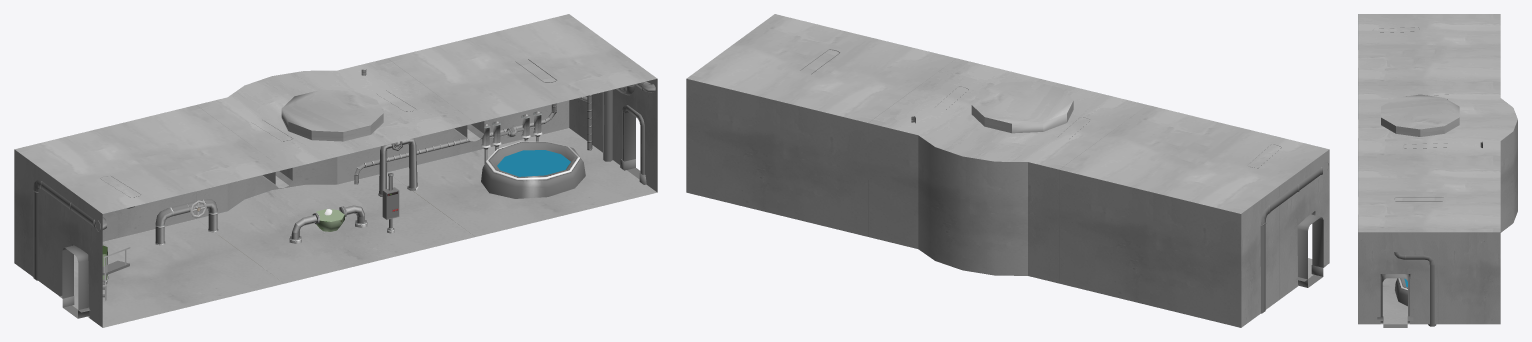
Rendered from MHS_Water_L1_R3_optimized.fbx.
3 views of the same model, side by side, from view 1: azimuth 30°, elevation 25°; view 2: azimuth 150°, elevation 25°; view 3: azimuth 270°, elevation 25° (orthographic). The views are drawn at different scales.
Parts seen in each view (by area): view 1: lightmap0, MHS_Water_L1_door, lightmap-1; view 2: lightmap0, MHS_Water_L1_door; view 3: lightmap0, MHS_Water_L1_door.
Boxes of the visible parts, left/top/right/bottom form: lightmap0: left=14, top=14, right=657, bottom=327; MHS_Water_L1_door: left=62, top=110, right=640, bottom=318; lightmap-1: left=102, top=150, right=570, bottom=279; lightmap0: left=686, top=14, right=1329, bottom=327; MHS_Water_L1_door: left=1297, top=214, right=1323, bottom=287; lightmap0: left=1358, top=14, right=1517, bottom=326; MHS_Water_L1_door: left=1382, top=274, right=1407, bottom=327.
Size of the model in its own units: 30.91 by 6.5 by 9.25.
